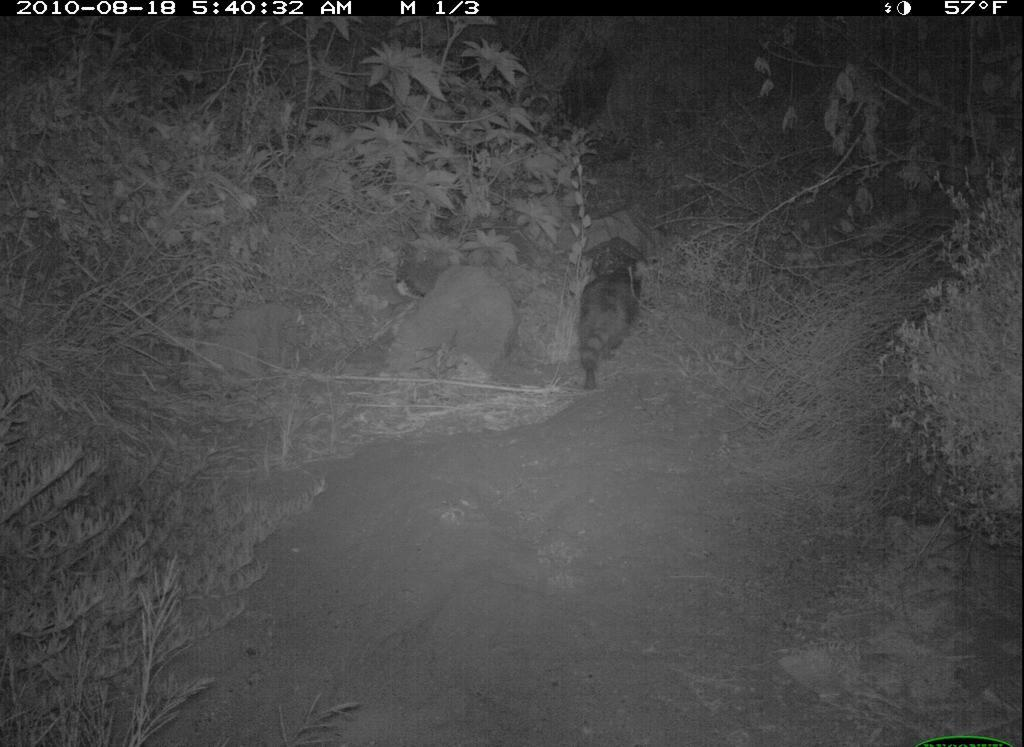raccoon: (571, 235, 661, 396)
